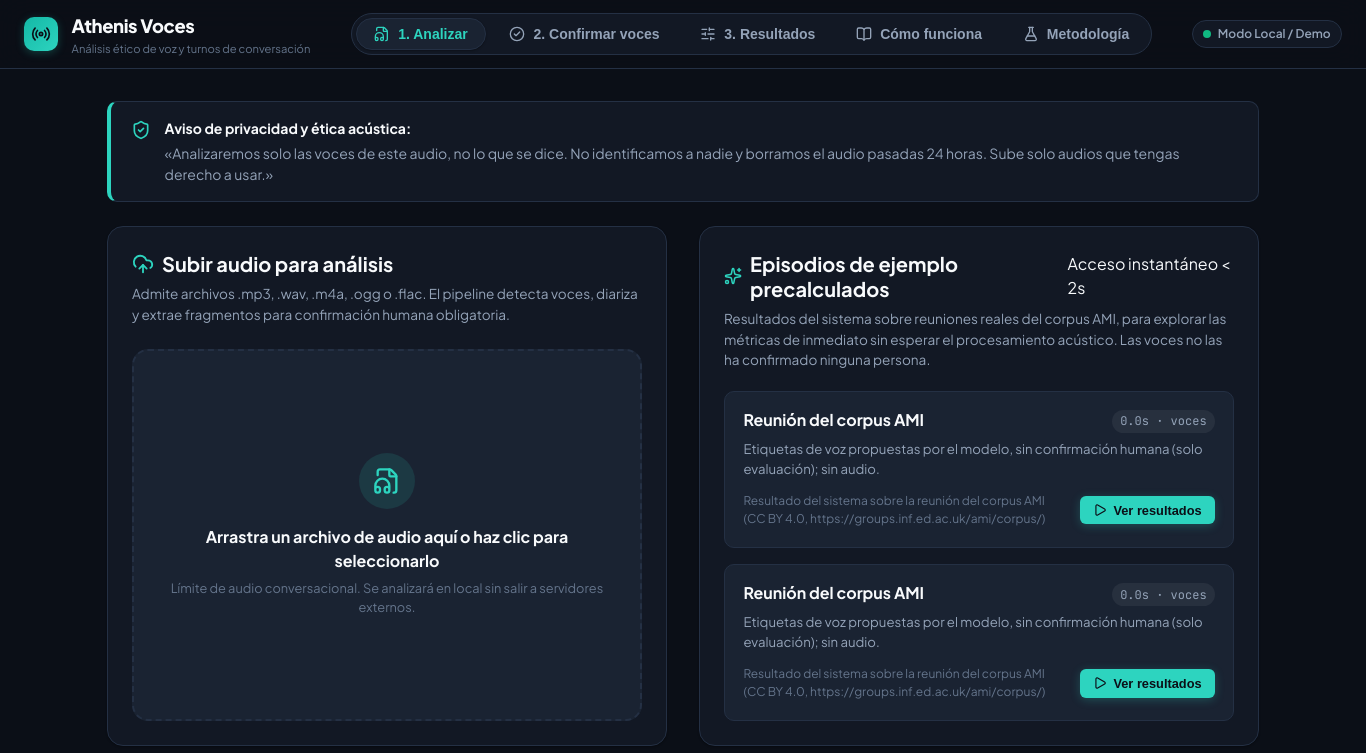
Scenario: Aplicación Athenis Voces Frontend › permite navegar a la página 'Metodología'
Click the button "Metodología".
click(1076, 34)  # box 1005,18 -> 1147,50
(page scrolled)
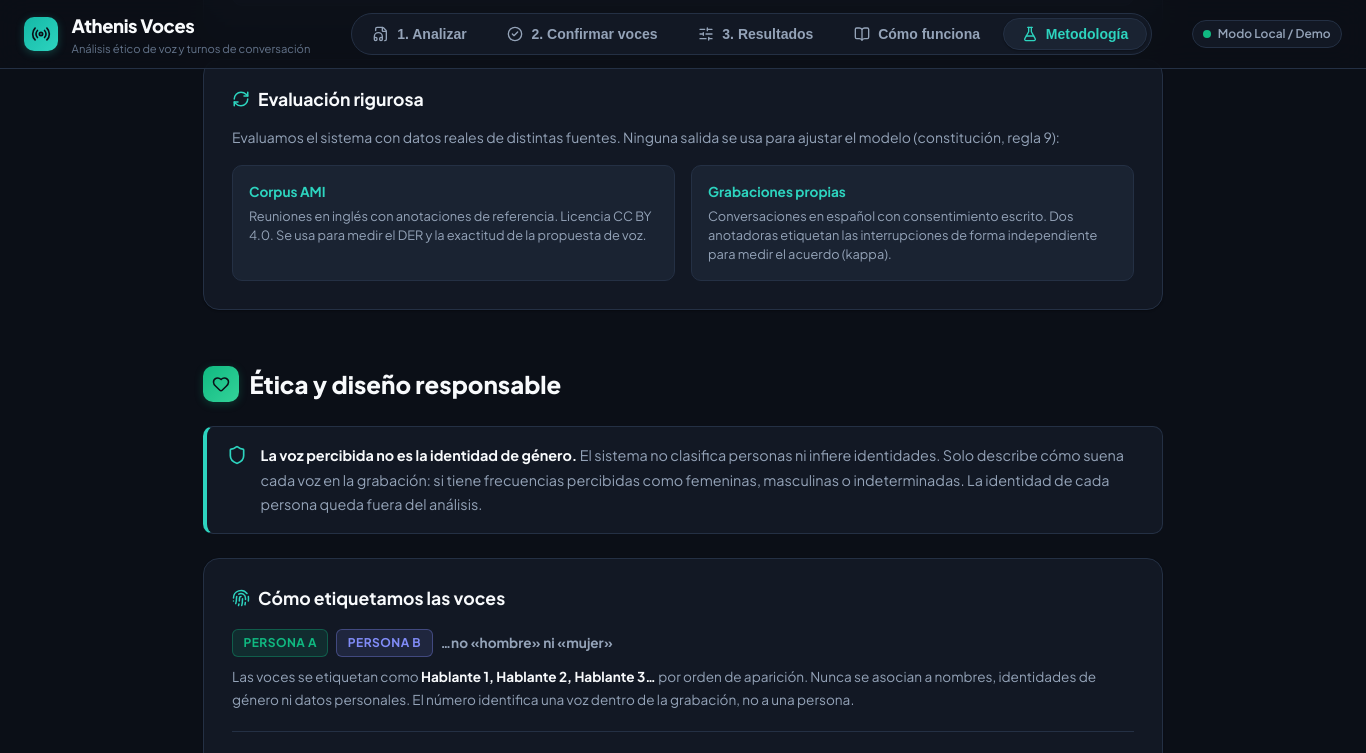
Expected: the heading "Ética y diseño responsable" is shown, 249,369 -> 561,399
